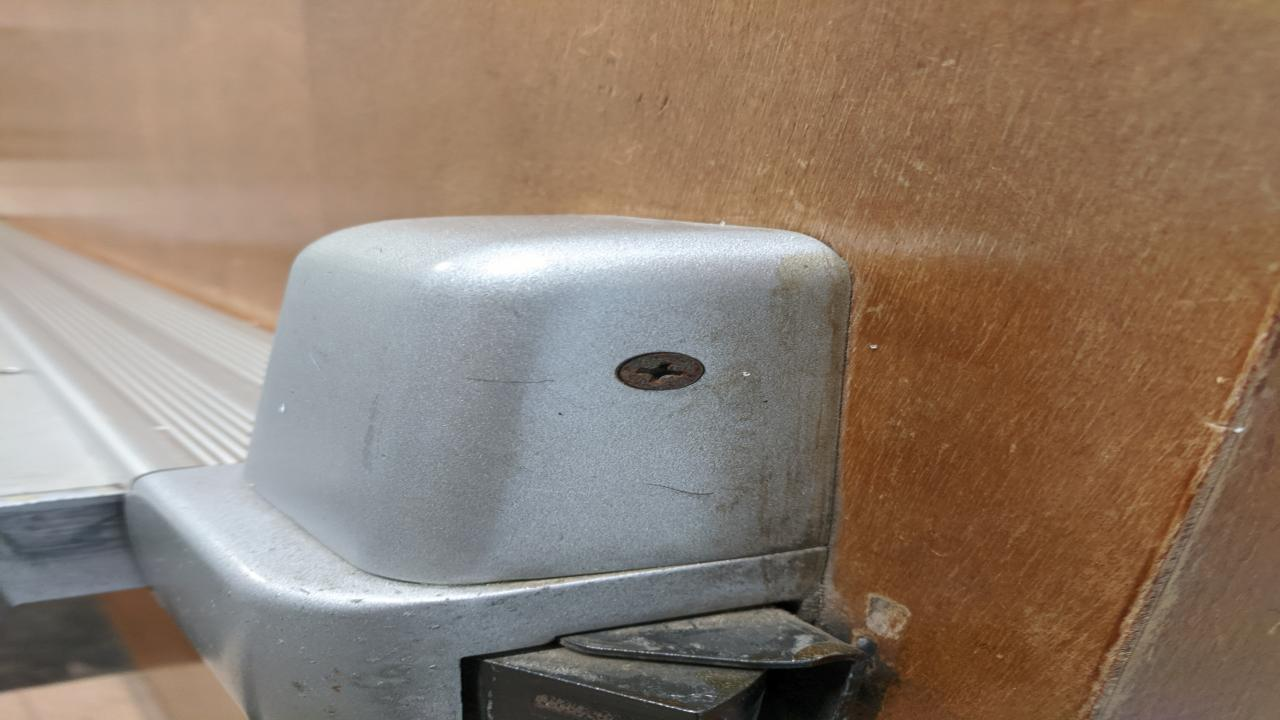CRS: (614, 350, 709, 391)
